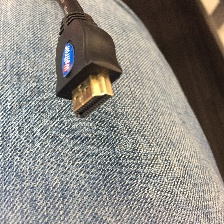hdmi_male: (43, 17, 126, 122)
